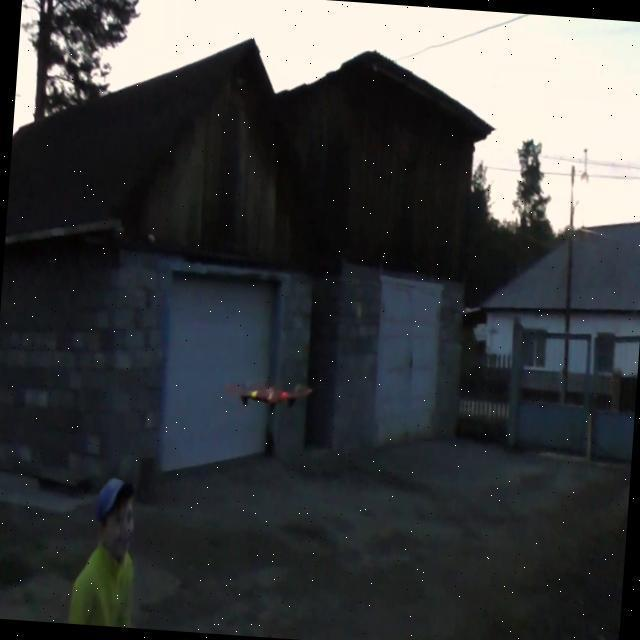Drons: (222, 373, 314, 416)
